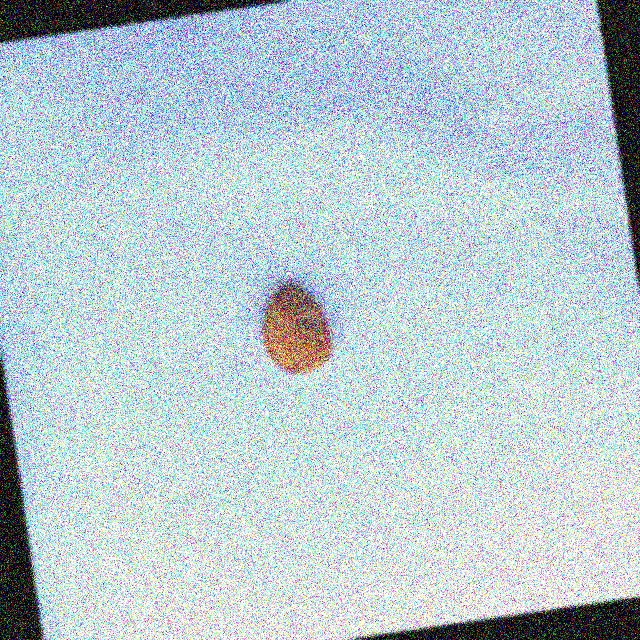grade3: (253, 275, 342, 383)
